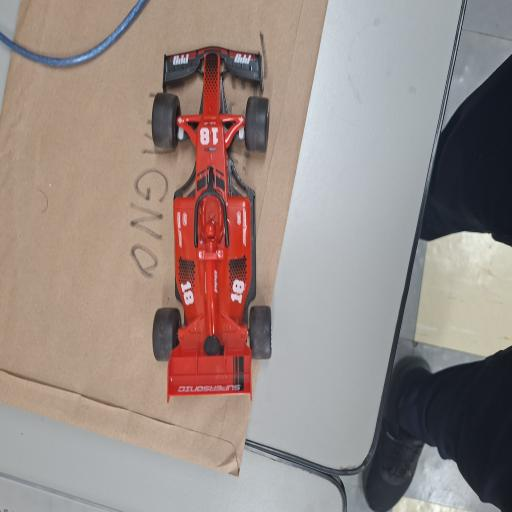carro: (152, 48, 271, 401)
